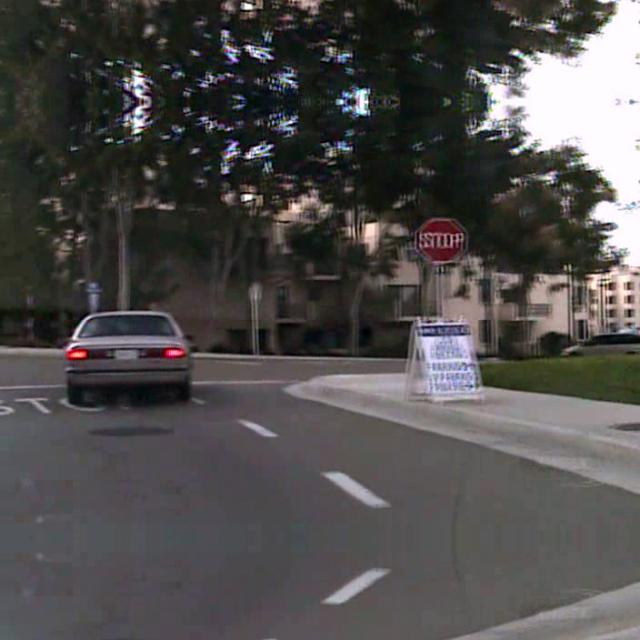stop: (414, 215, 466, 261)
